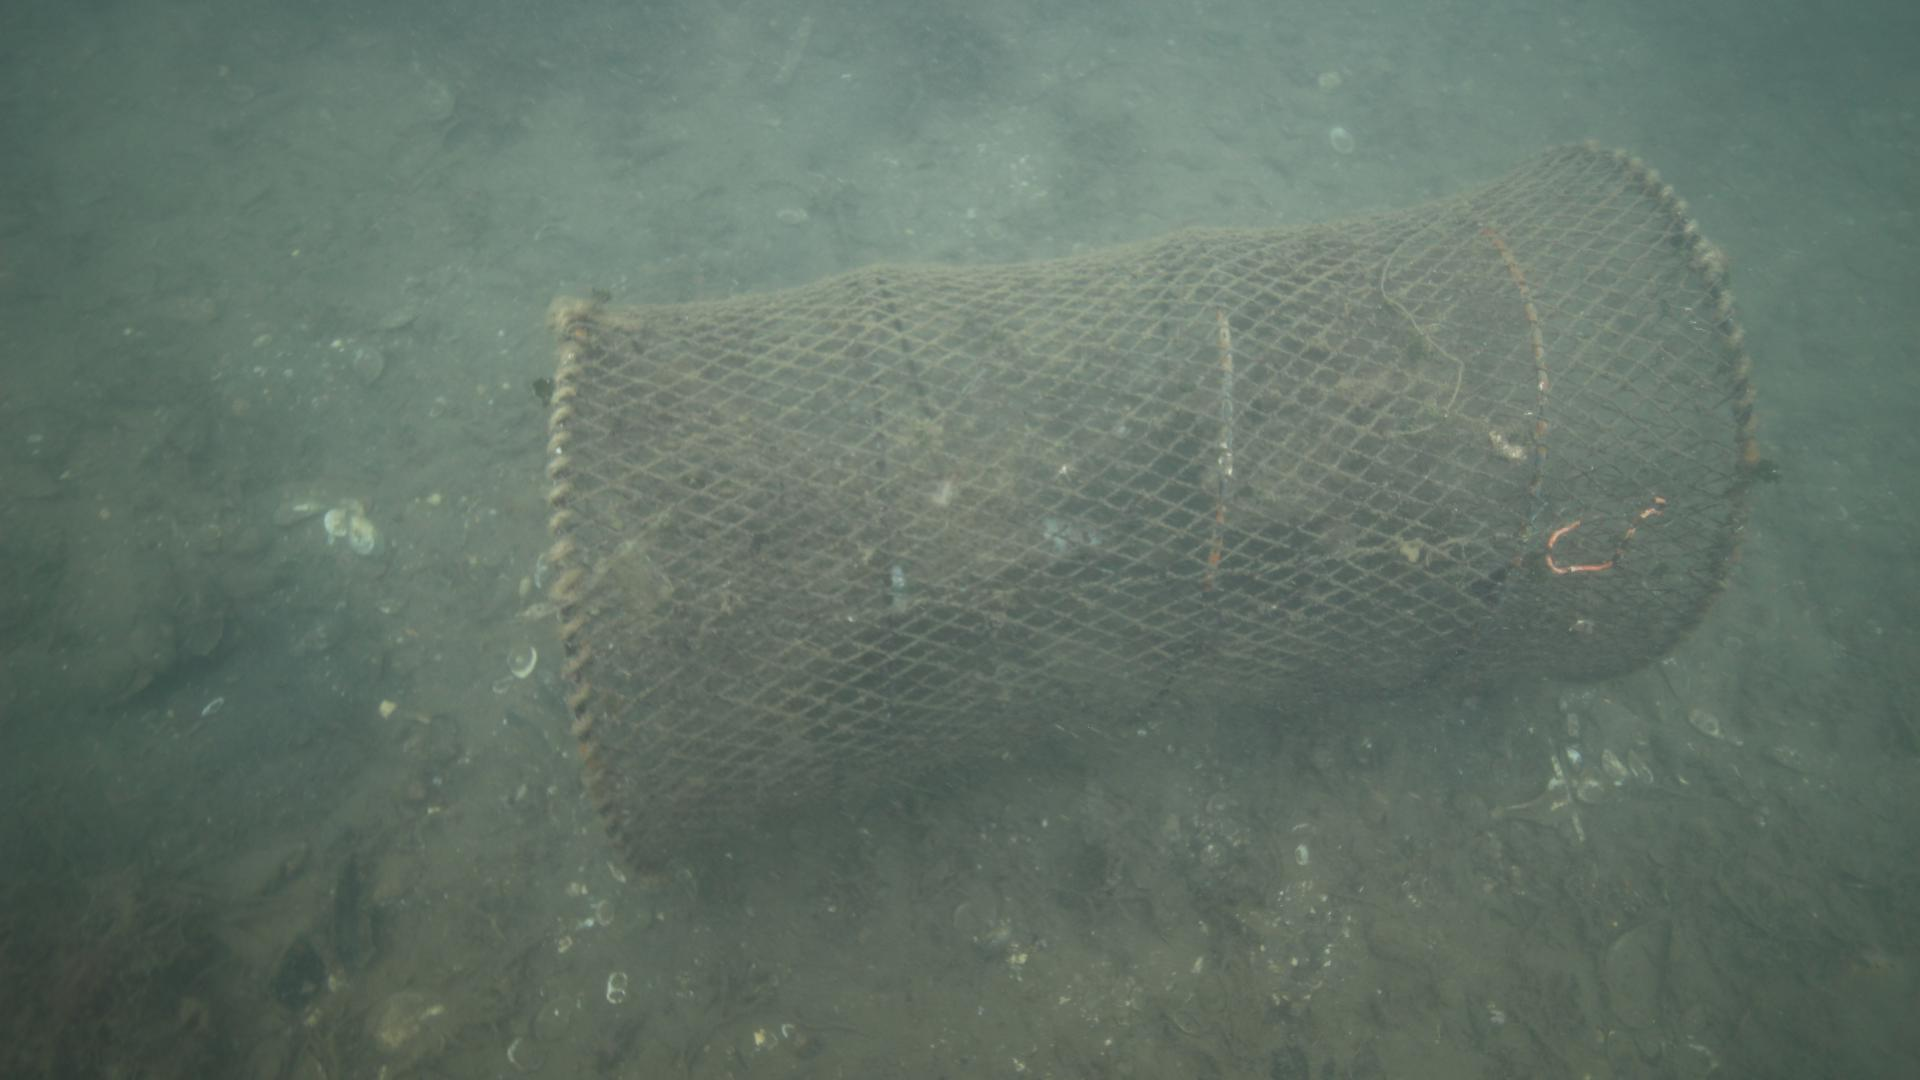spring fish trap: (545, 135, 1754, 876)
